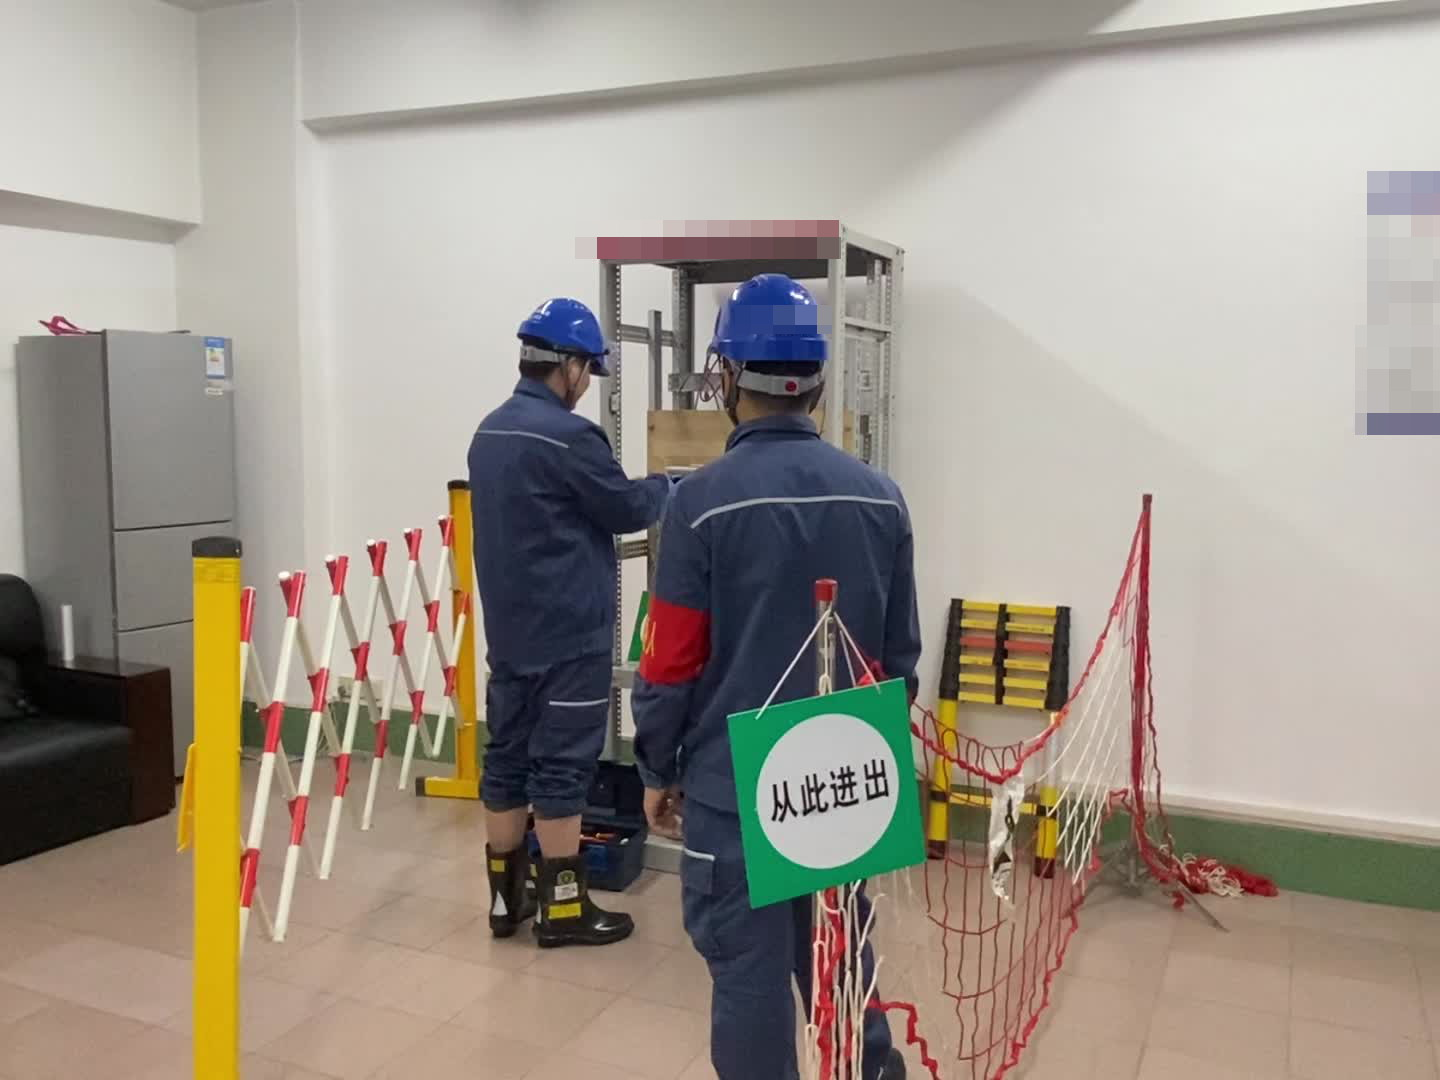badge: (639, 597, 713, 689)
downsuit: (676, 802, 811, 1080), (480, 675, 611, 814)
halt: (711, 273, 833, 418), (515, 296, 612, 397)
hand: (638, 785, 683, 841)
inear: (558, 347, 592, 406)
intosign: (726, 674, 929, 912)
person: (629, 269, 927, 1079), (459, 294, 644, 942)
shoe: (483, 839, 636, 951)
upsuit: (637, 417, 921, 725), (466, 385, 634, 657)
wrongbottom: (473, 771, 598, 858)
